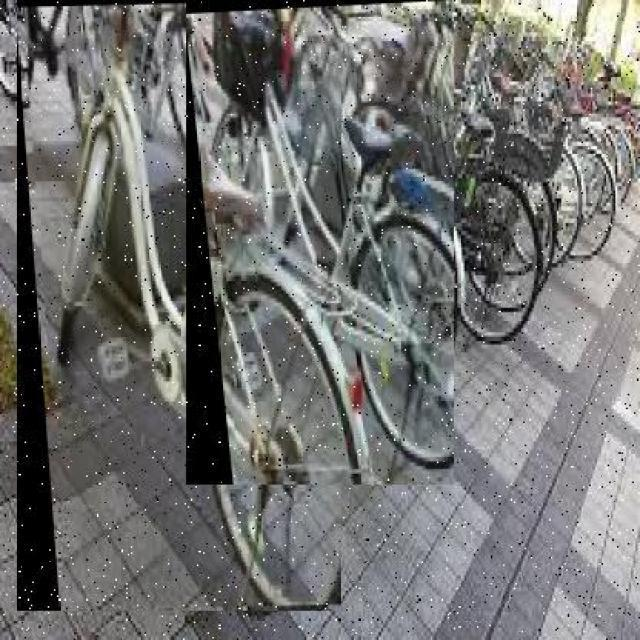bicycle: (16, 1, 340, 613), (186, 1, 455, 487)
